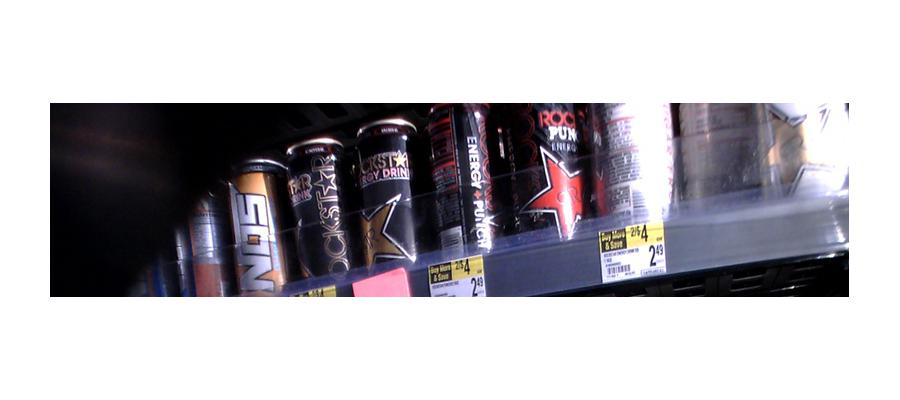bottle: (355, 116, 417, 272), (428, 104, 486, 266), (226, 148, 290, 291), (602, 101, 673, 229), (290, 134, 349, 282), (528, 105, 588, 235)
